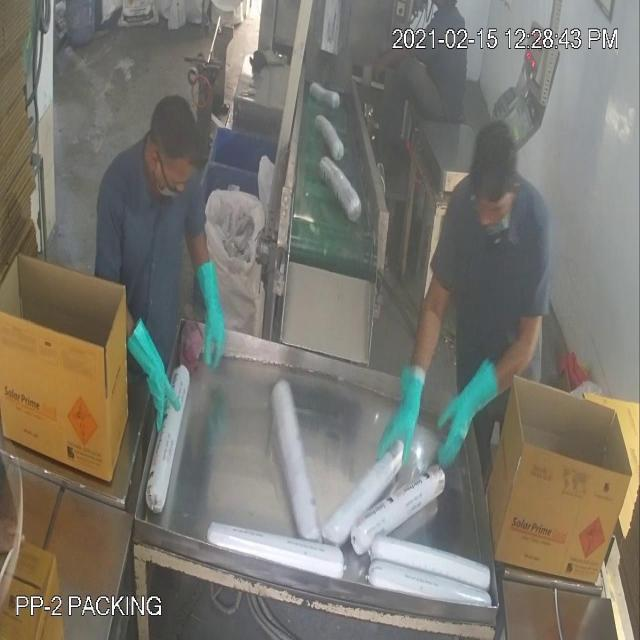Gloves: (50, 121, 469, 414)
